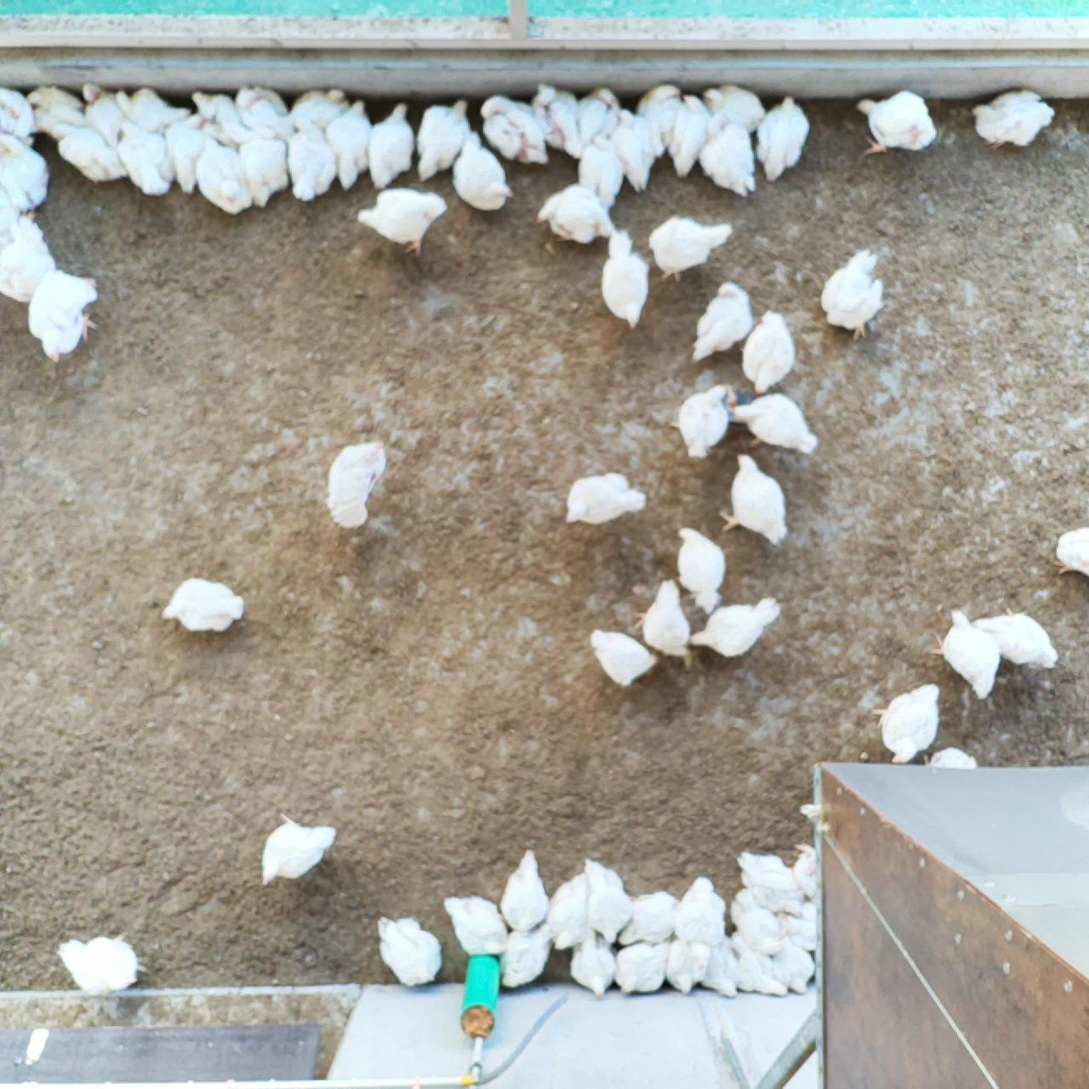chicken: (708, 448, 791, 547), (925, 603, 1004, 702), (867, 679, 946, 769), (356, 185, 452, 256), (28, 270, 101, 363), (818, 245, 888, 341), (965, 607, 1066, 673), (687, 279, 760, 367), (593, 228, 654, 332), (646, 214, 737, 283), (726, 390, 819, 457), (684, 599, 785, 660), (258, 811, 338, 888), (853, 88, 939, 158), (58, 930, 149, 996), (749, 95, 815, 185), (324, 436, 386, 531), (155, 572, 246, 635), (635, 575, 696, 668), (192, 133, 258, 218), (411, 95, 473, 185), (449, 129, 516, 212), (532, 185, 623, 246), (0, 211, 57, 306), (478, 96, 551, 170), (40, 120, 125, 183), (971, 86, 1056, 149), (374, 911, 443, 988), (282, 117, 341, 206), (737, 845, 806, 921), (235, 119, 291, 211), (696, 117, 762, 195), (362, 100, 417, 193), (113, 115, 174, 198), (578, 852, 633, 944), (742, 308, 798, 398), (326, 96, 377, 194), (559, 468, 645, 526), (676, 382, 733, 466), (584, 622, 660, 685), (671, 524, 726, 611), (440, 888, 509, 957), (574, 130, 630, 215), (662, 94, 714, 184), (615, 887, 686, 951), (188, 89, 260, 152), (0, 135, 52, 222), (614, 108, 664, 196), (108, 80, 189, 134), (670, 871, 725, 949), (531, 81, 582, 165), (542, 870, 593, 953), (498, 849, 545, 936), (728, 891, 789, 957), (161, 114, 210, 196), (611, 936, 674, 999), (630, 81, 685, 153), (567, 926, 620, 1000), (497, 921, 551, 992), (693, 927, 743, 1003), (727, 938, 791, 996), (228, 86, 298, 139), (23, 81, 84, 141), (572, 83, 625, 152), (284, 85, 354, 133), (703, 82, 767, 132), (766, 934, 818, 995), (75, 79, 122, 145), (661, 933, 710, 995), (770, 898, 824, 949), (1047, 521, 1089, 578), (0, 83, 34, 151), (791, 843, 822, 905), (921, 746, 986, 772)
